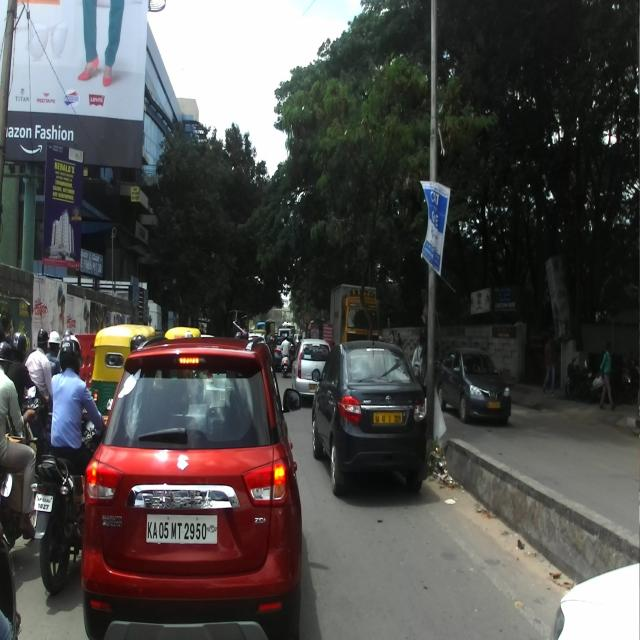autorickshaw: (90, 323, 156, 425)
car: (80, 334, 304, 638), (311, 332, 429, 499), (552, 562, 640, 640), (433, 347, 511, 425)
motorcycle: (30, 396, 115, 594)
